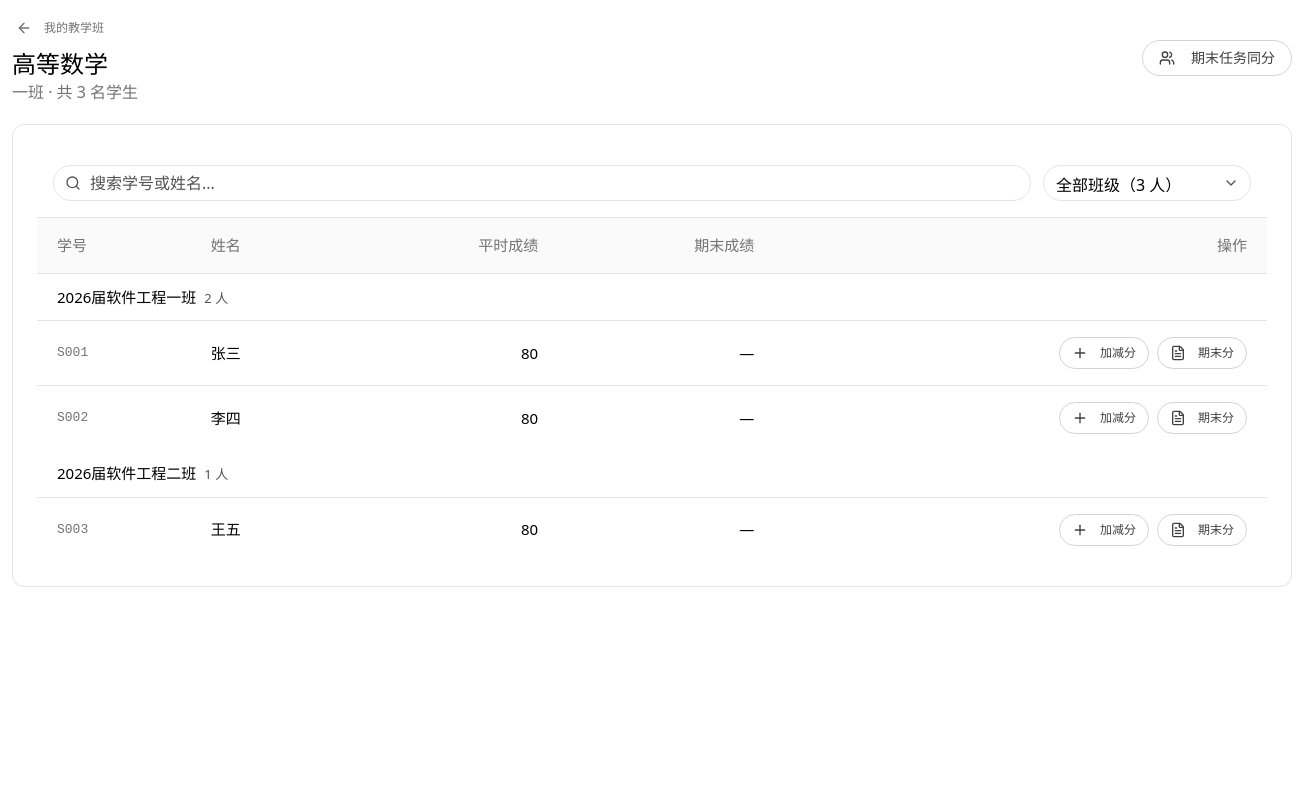
Scenario: OfferingGrades 成绩录入 › 搜索学号或姓名过滤名单并提示筛选人数
The image size is (1304, 812).
Type "王五" into the field with placeholder "搜索学号或姓名..." at (542, 183), box [53, 165, 1031, 201]
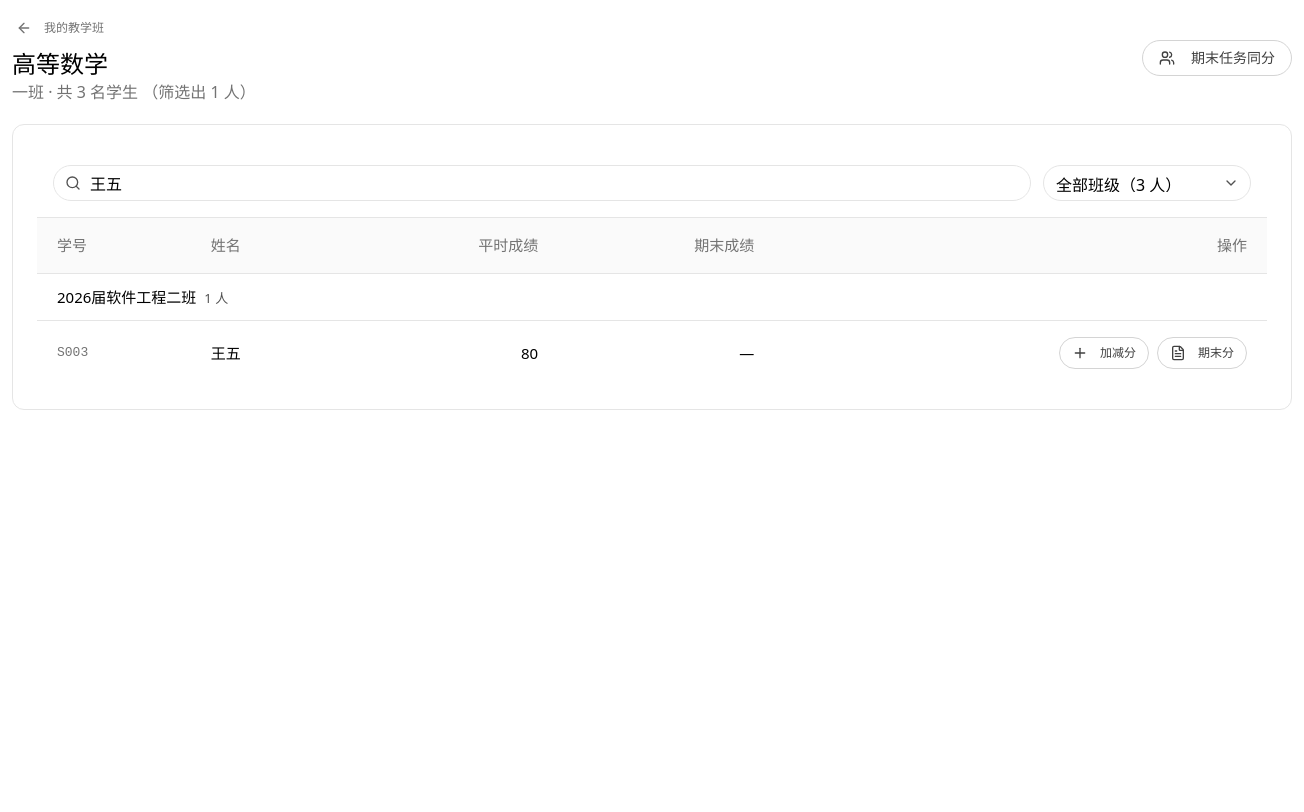
Expected: the text "王五" is shown, [191, 320, 342, 385]
Expected: the text "张三" is gone
Expected: the text "筛选出 1 人" is shown, [142, 81, 256, 103]
Replace the text in the field with placeholder "搜索学号或姓名..." with "S001" at (542, 183), box [53, 165, 1031, 201]
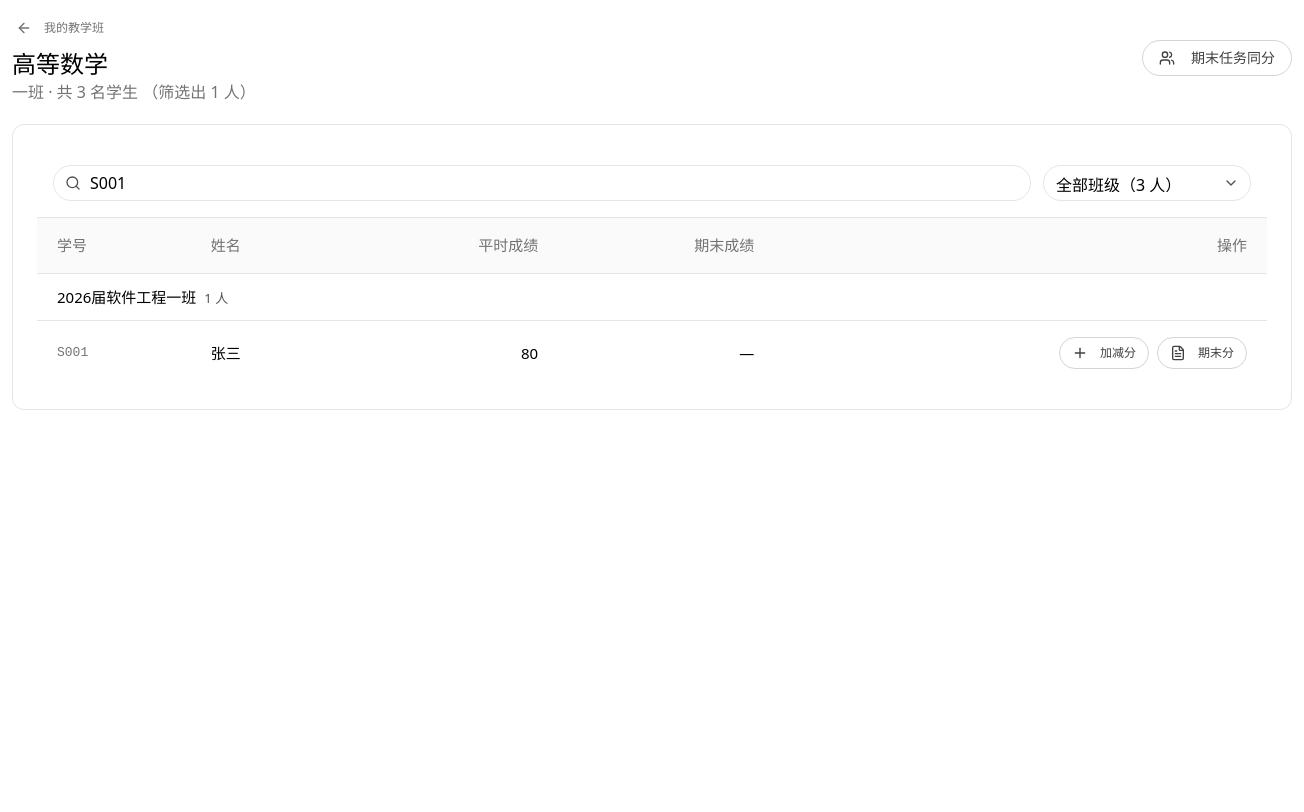
Expected: the text "张三" is shown, [191, 320, 342, 385]
Expected: the text "王五" is gone
